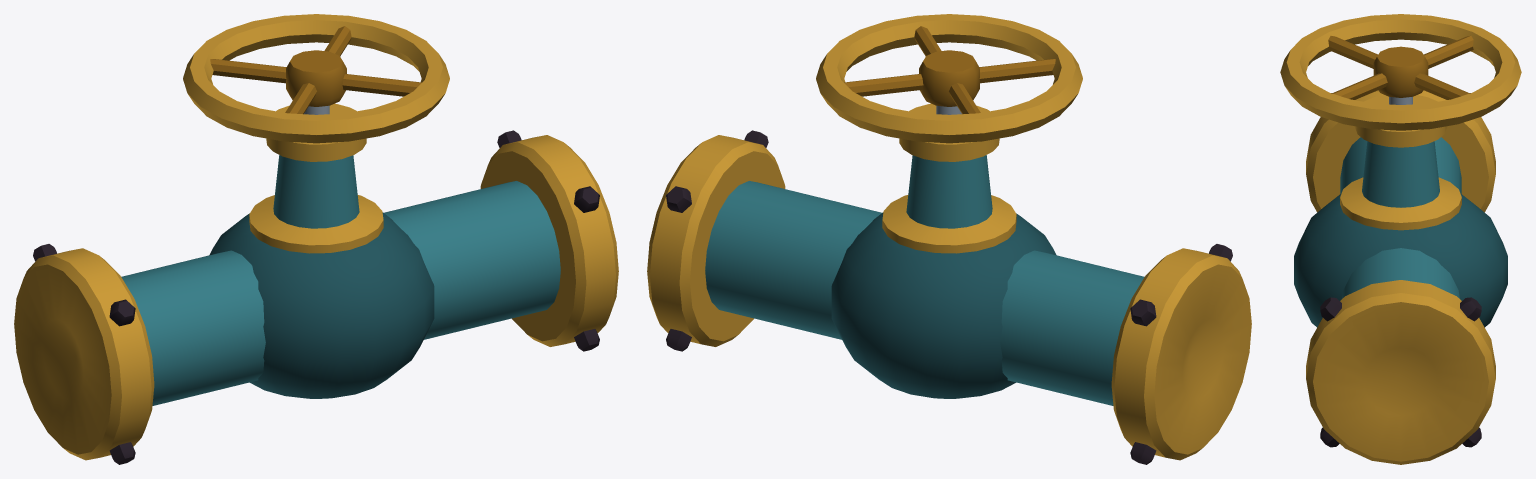
File: Valve_10.glb
The picture shows the model from 3 angles, left to right: view 1: azimuth 30°, elevation 25°; view 2: azimuth 150°, elevation 25°; view 3: azimuth 270°, elevation 25°; orthographic projection. The views are drawn at different scales.
Parts seen in each view (by area): view 1: Valve_10; view 2: Valve_10; view 3: Valve_10.
Part boxes in pixels (x1,y1,x2,y2): Valve_10: (14, 14, 618, 464); Valve_10: (647, 14, 1251, 464); Valve_10: (1280, 14, 1521, 464).
Bounding box in the file's own units: 3.08 × 1.92 × 1.41.
